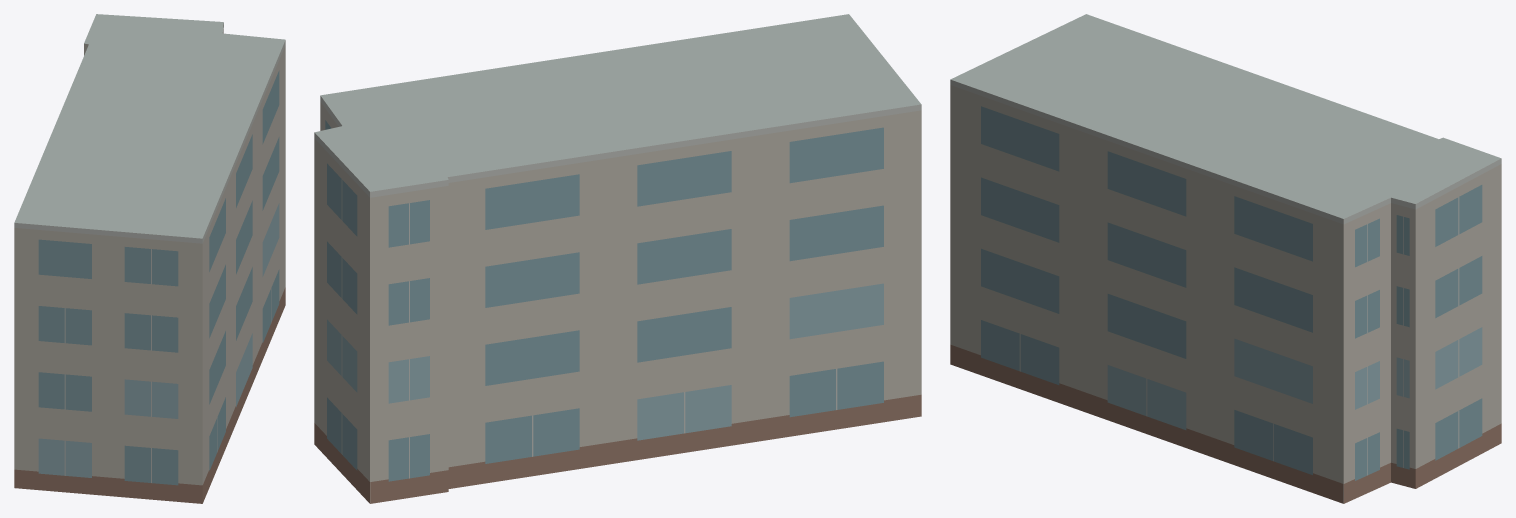
The model's file is survey-upis-32634789.glb.
3 renders of one model, left to right at view 1: azimuth 30°, elevation 25°; view 2: azimuth 150°, elevation 25°; view 3: azimuth 270°, elevation 25°, orthographic. The views are drawn at different scales.
Visible parts, largest first — view 1: survey-upis-32634789.tmp; view 2: survey-upis-32634789.tmp; view 3: survey-upis-32634789.tmp.
Part boxes in pixels (x1,y1,x2,y2): survey-upis-32634789.tmp: [14, 14, 285, 503]; survey-upis-32634789.tmp: [314, 14, 921, 503]; survey-upis-32634789.tmp: [950, 14, 1501, 503].
Size of the model in its own units: 19.77 by 12.8 by 22.46.
